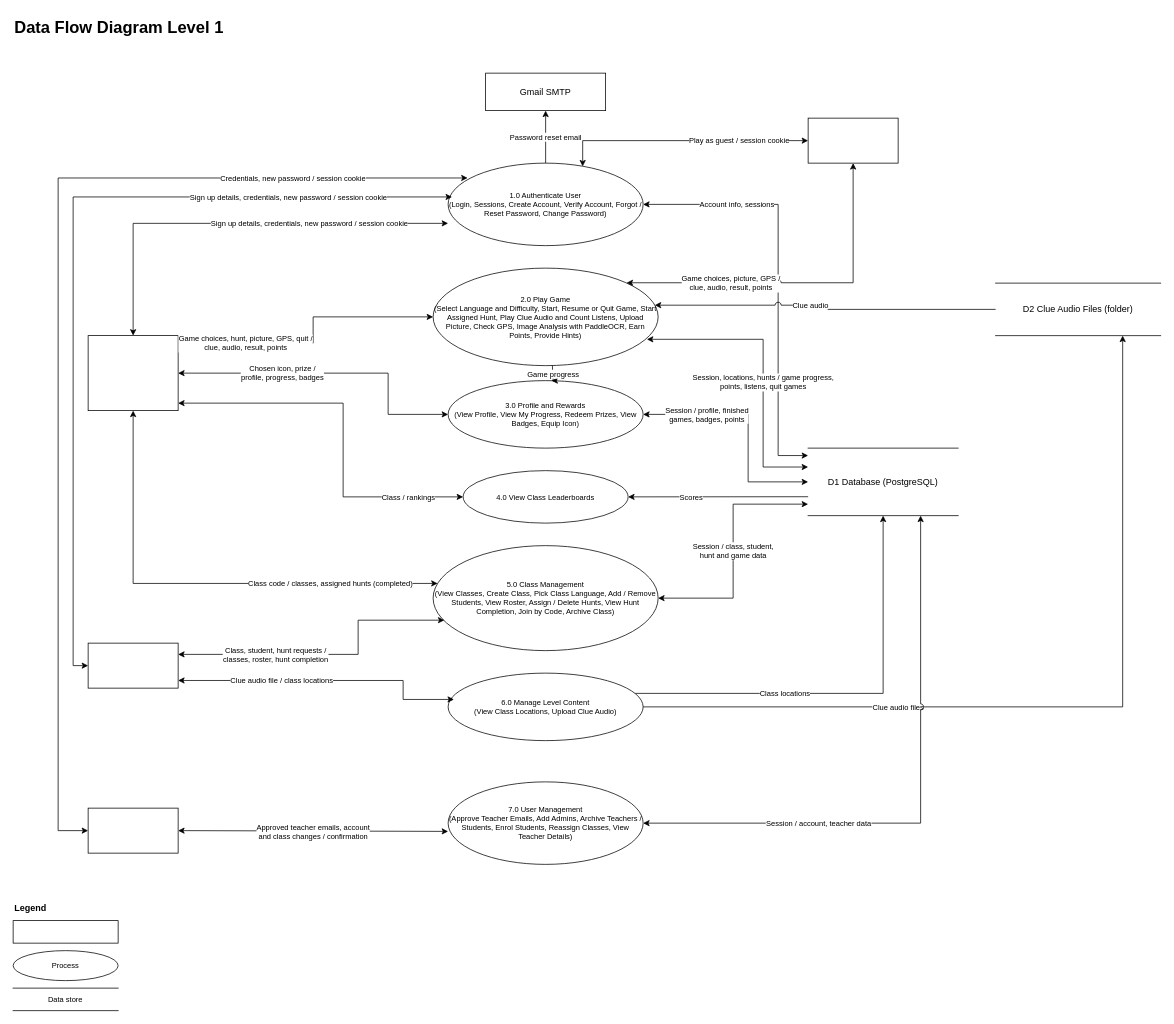
The diagram is 1174 pixels wide and 1024 high, and some of its shapes have lost their labels. The shapes that lost their labels are listed below. From the top down, each one's centre as x and y in pixels, then its label:
the point at 852,140: Guest
the point at 132,373: Student
the point at 132,665: Teacher
the point at 132,830: Admin
the point at 65,931: Entity / external system
